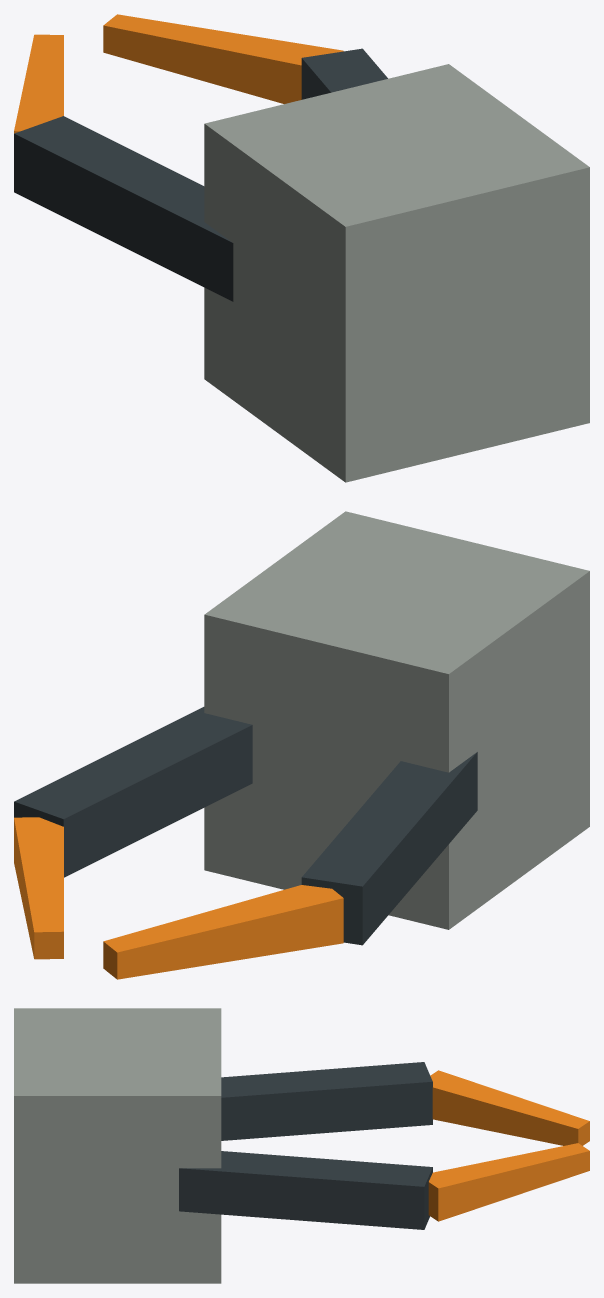
3 views of the same model, one above another, from view 1: azimuth 30°, elevation 25°; view 2: azimuth 150°, elevation 25°; view 3: azimuth 270°, elevation 25° (orthographic). The views are drawn at different scales.
Visible parts, largest first — view 1: mount; view 2: mount; view 3: mount.
Boxes of the visible parts, x1,y1,x2,y2 form: mount: (14,14,589,482); mount: (14,511,589,979); mount: (14,1008,589,1283).
Bounding box in the file's own units: 5.7 × 4 × 11.11.
